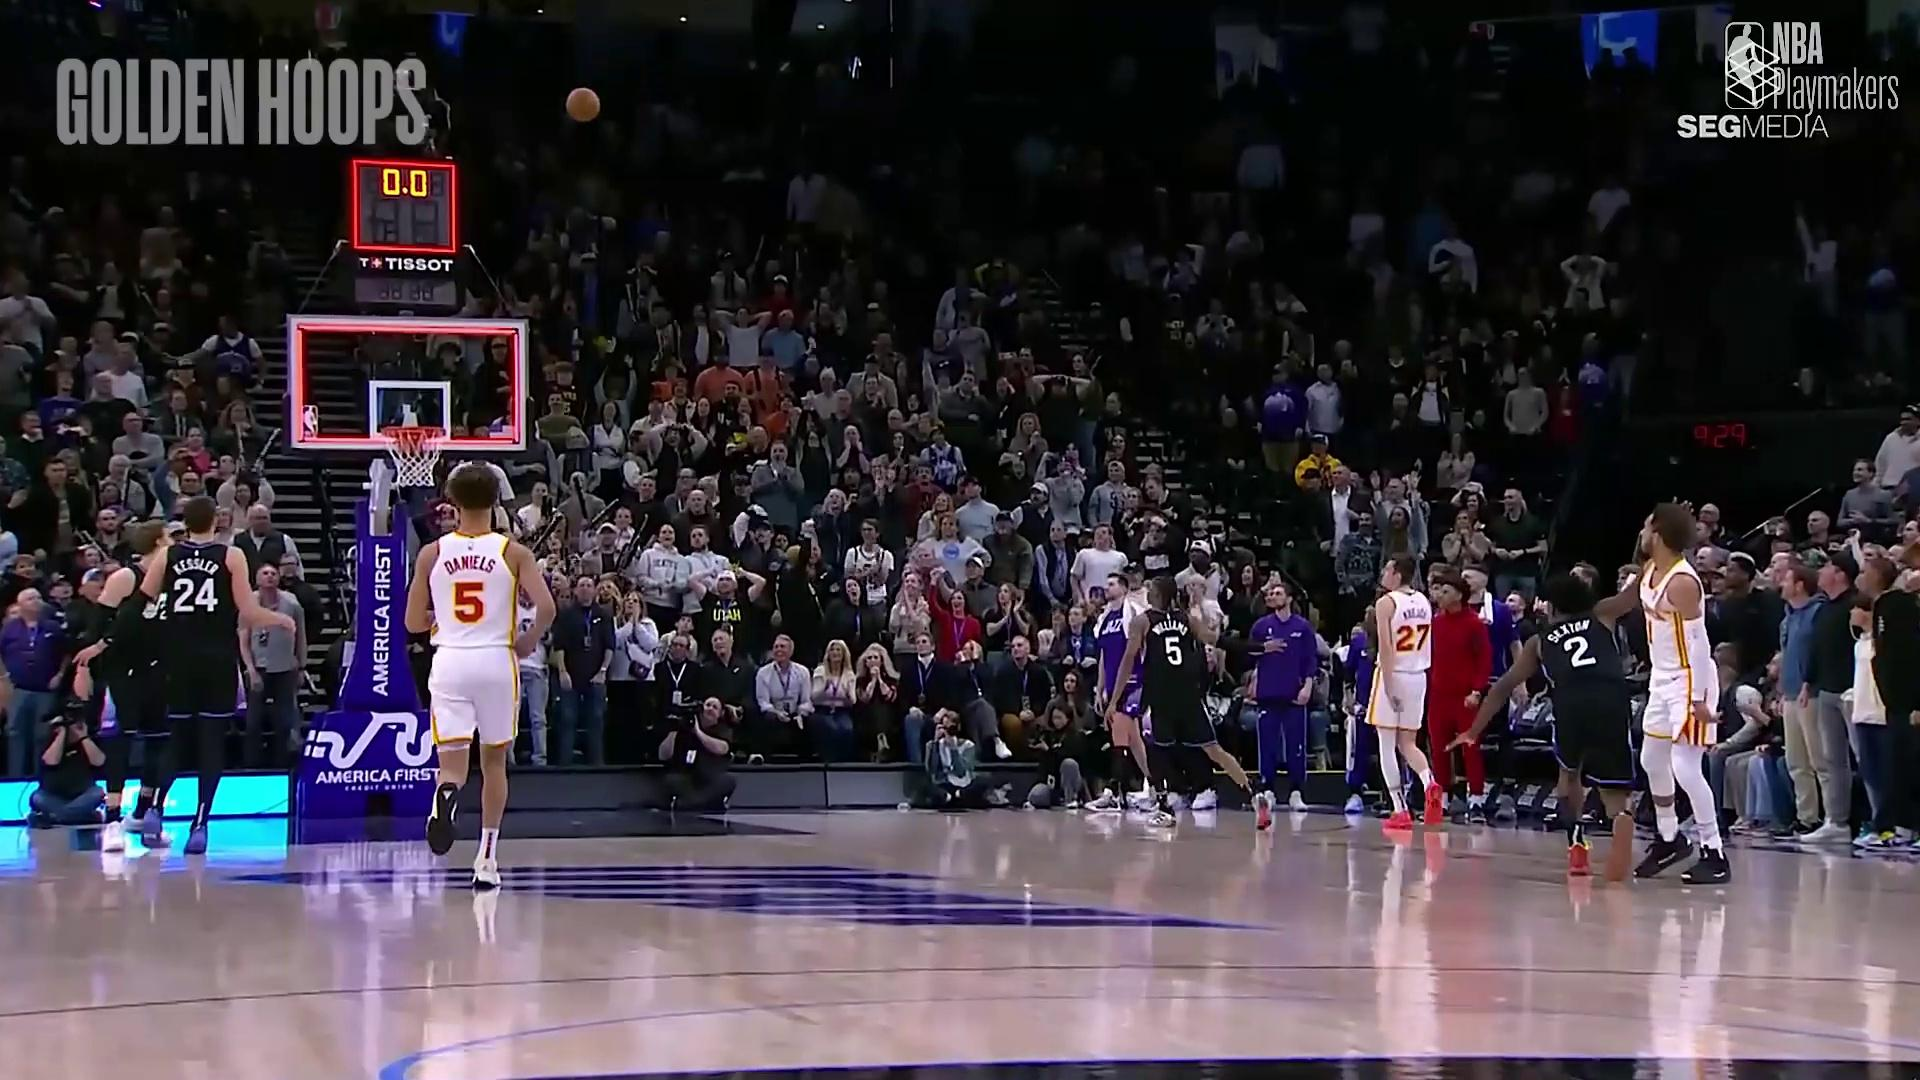hoop: (384, 409, 447, 489), (560, 80, 608, 127)
